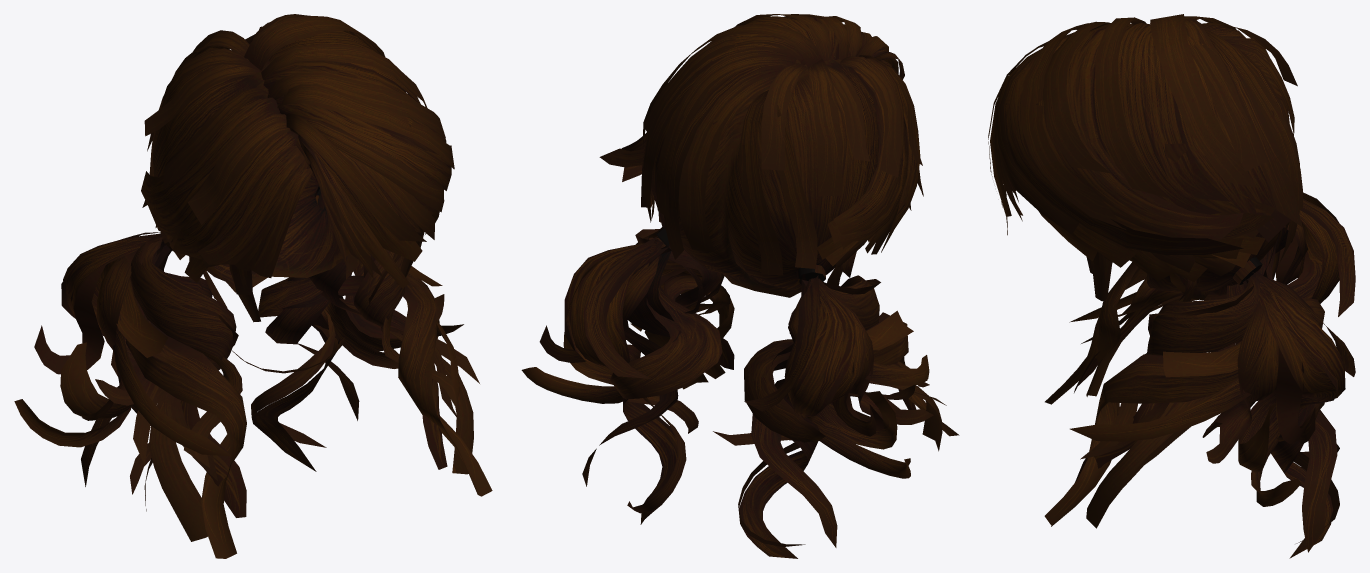
The model's file is female_hair.glb.
The picture shows the model from 3 angles, left to right: view 1: azimuth 30°, elevation 25°; view 2: azimuth 150°, elevation 25°; view 3: azimuth 270°, elevation 25°; orthographic projection. The views are drawn at different scales.
Visible parts, largest first — view 1: Object_2; view 2: Object_2; view 3: Object_2.
Boxes of the visible parts, box(x1,y1,x2,y2) form: Object_2: box(14, 14, 492, 558); Object_2: box(521, 14, 959, 558); Object_2: box(988, 14, 1355, 558).
Size of the model in its own units: 25.47 by 29.54 by 19.76.
Materials: 1 (1 with a texture image).
